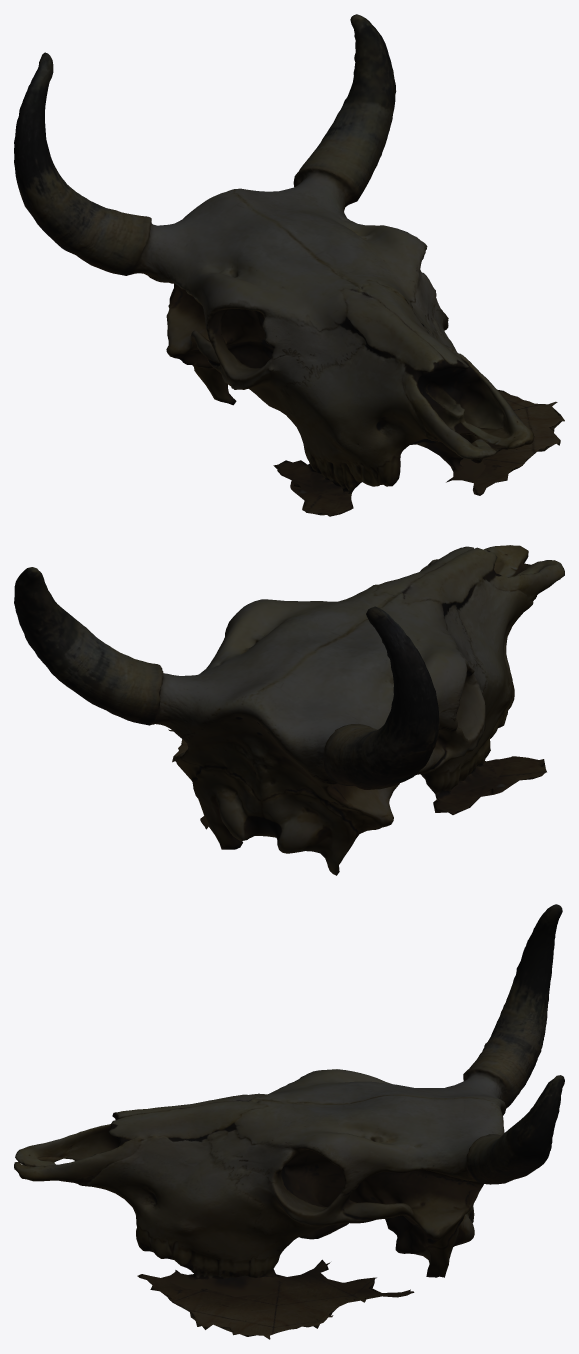
File: model_obj-Jakut.glb
The picture shows the model from 3 angles, top to bottom: view 1: azimuth 30°, elevation 25°; view 2: azimuth 150°, elevation 25°; view 3: azimuth 270°, elevation 25°; orthographic projection. The views are drawn at different scales.
Visible parts, largest first — view 1: Node1; view 2: Node1; view 3: Node1.
Part boxes in pixels (box(x1,y1,x2,y2)): Node1: box(14, 14, 564, 516); Node1: box(14, 545, 564, 875); Node1: box(14, 904, 564, 1339).
Size of the model in its own units: 0.3711 by 0.2917 by 0.504.
Materials: 1 (1 with a texture image).
